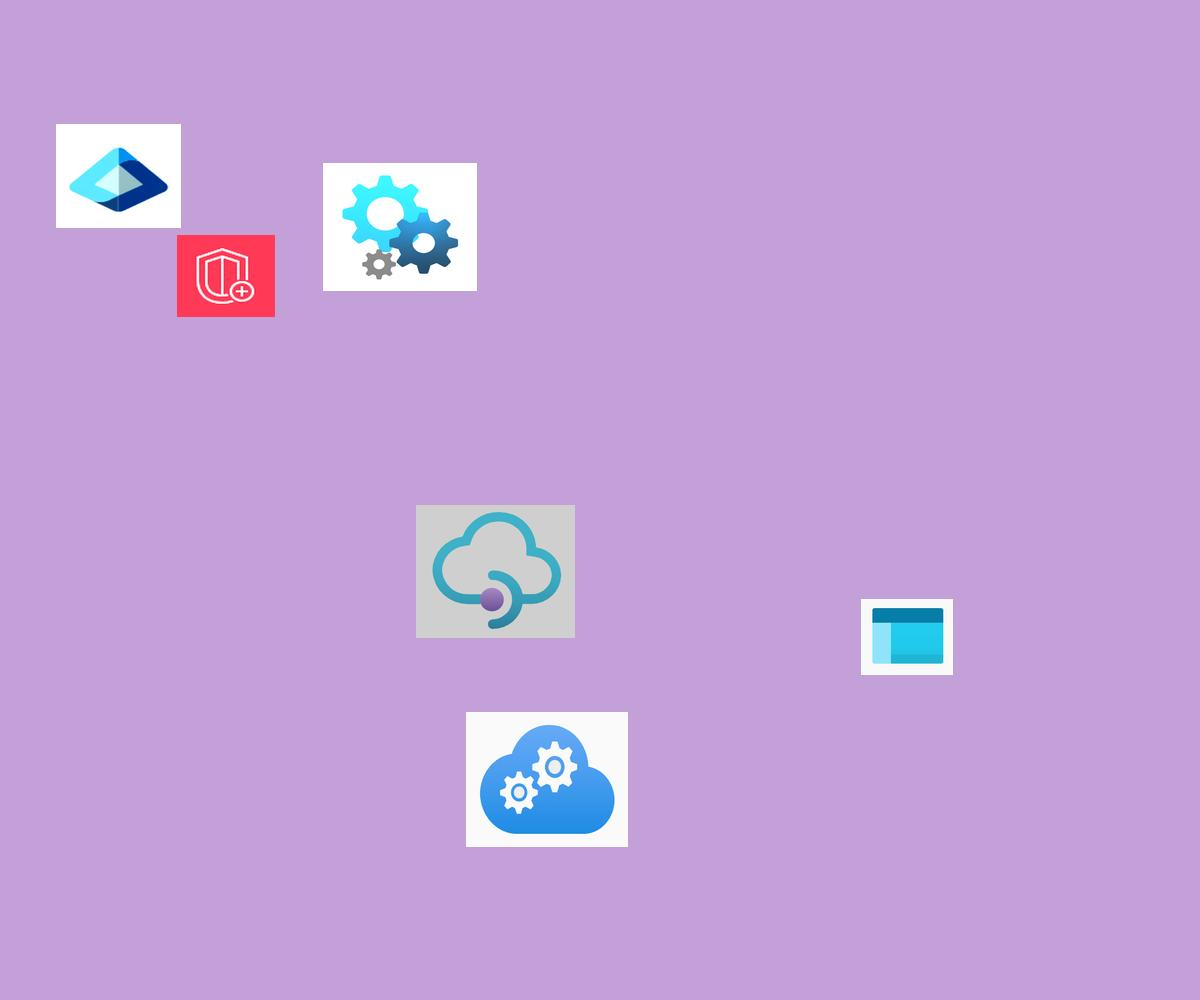AWS-Shield: (177, 235, 275, 317)
Azure_api: (323, 163, 477, 291)
Azure_api_gateway: (416, 505, 575, 638)
Azure_cloud_services: (466, 712, 628, 847)
Azure_management-portal: (861, 599, 953, 675)
Azure_microsoft_entra: (56, 124, 181, 228)
